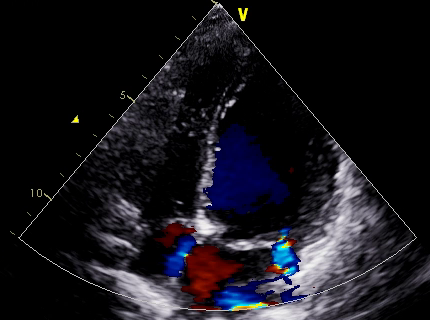MR: (225, 228, 300, 278)
